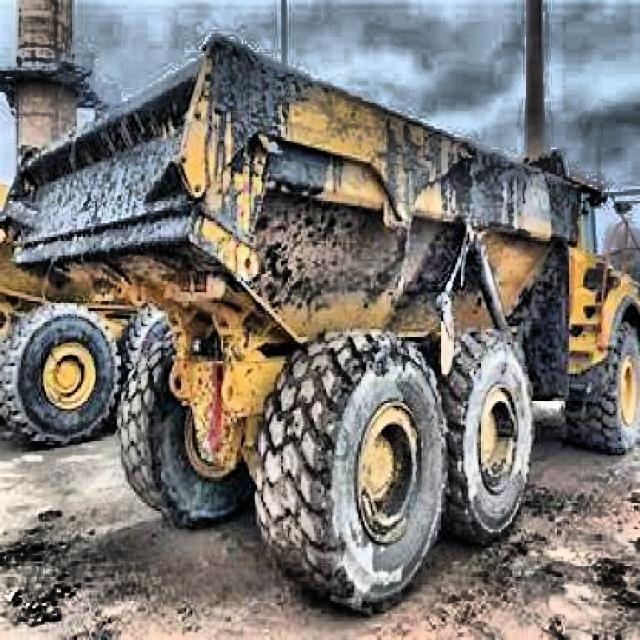dump_truck: (19, 43, 638, 594)
